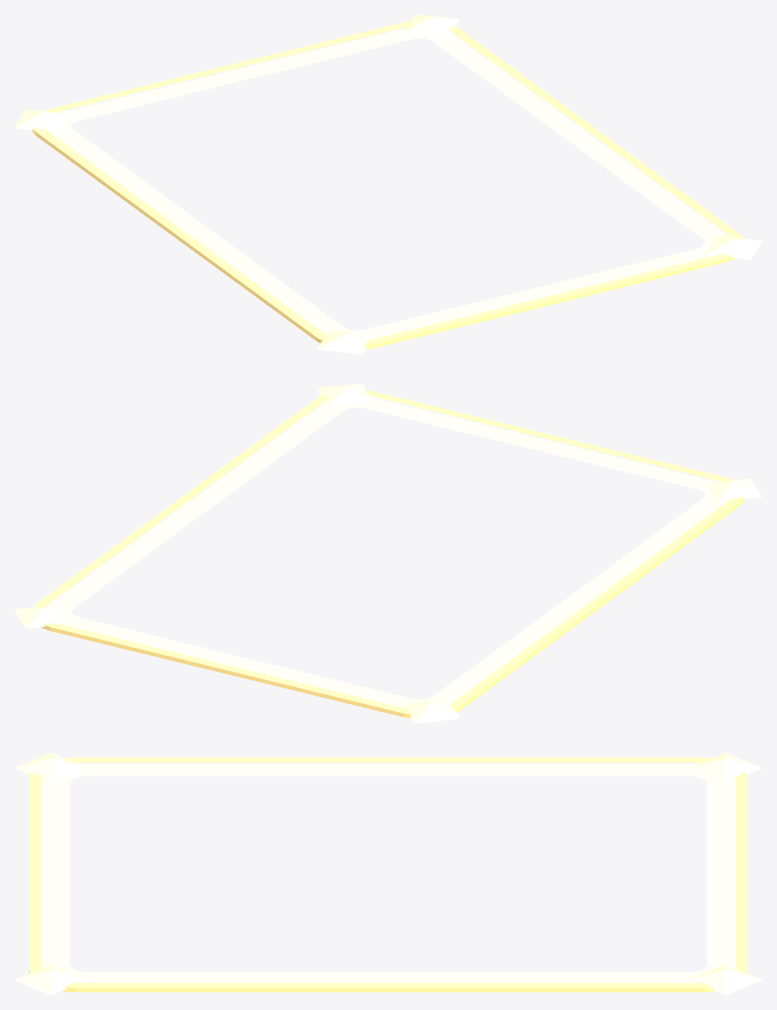
The model's file is ss_plate_n.glb.
3 views of the same model, one above another, from view 1: azimuth 30°, elevation 25°; view 2: azimuth 150°, elevation 25°; view 3: azimuth 270°, elevation 25° (orthographic). The views are drawn at different scales.
Visible parts, largest first — view 1: mwx_plate_g; view 2: mwx_plate_g; view 3: mwx_plate_g.
Part boxes in pixels (x1=…): mwx_plate_g: x1=14, y1=14, x2=762, y2=354; mwx_plate_g: x1=14, y1=383, x2=762, y2=723; mwx_plate_g: x1=14, y1=752, x2=762, y2=995.
Size of the model in its own units: 8.5 by 0.21 by 11.07.
